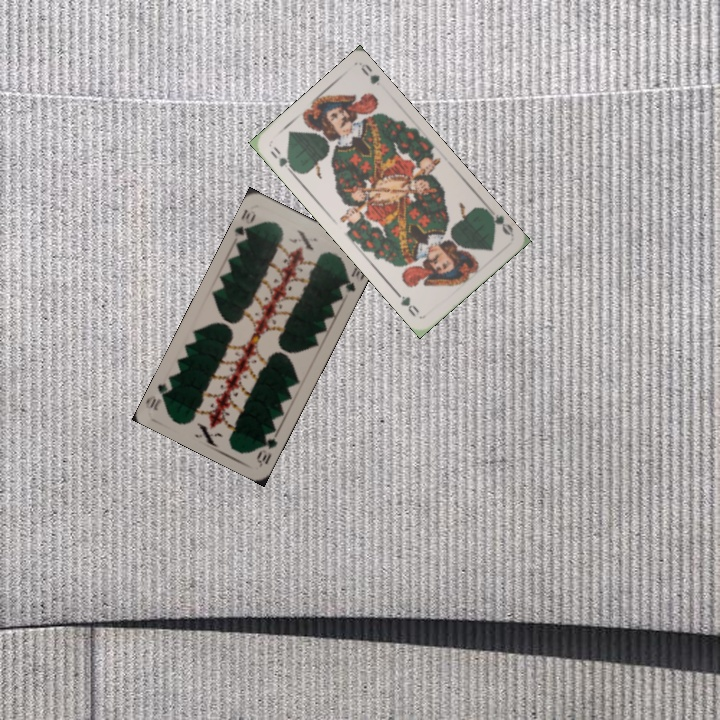G10: (231, 205, 259, 245), (252, 427, 280, 467)
GO: (482, 203, 516, 238), (266, 142, 299, 177)
